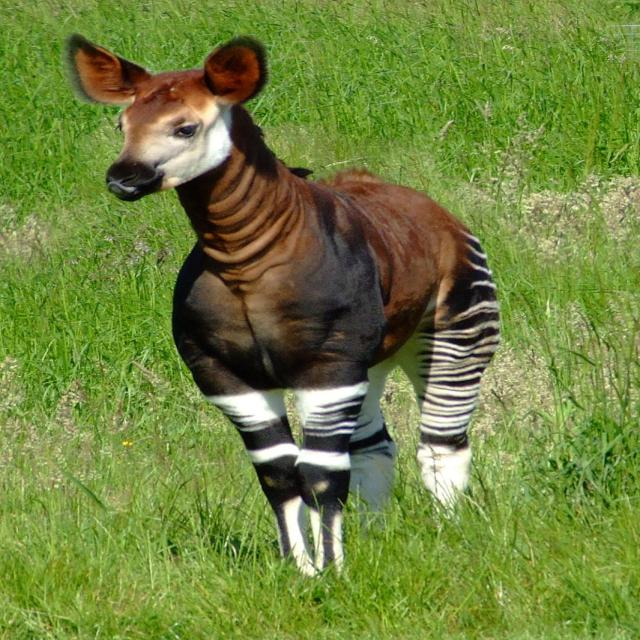Okapi: (61, 21, 516, 584)
